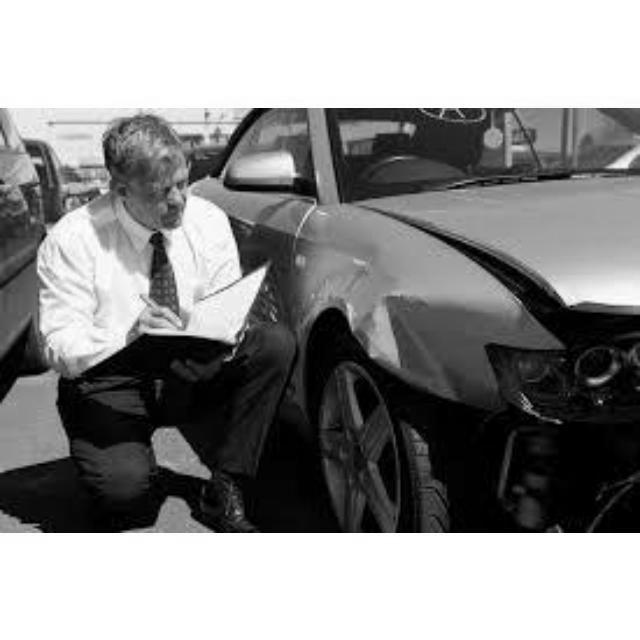Headlight-damage: (489, 326, 637, 426)
bonnet-dent: (433, 170, 637, 321)
fender-dent: (296, 207, 496, 393)
